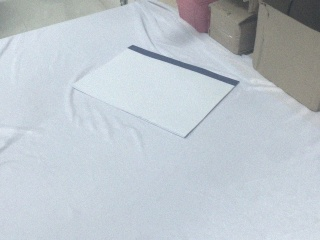box: (252, 1, 320, 114), (207, 1, 258, 56)
